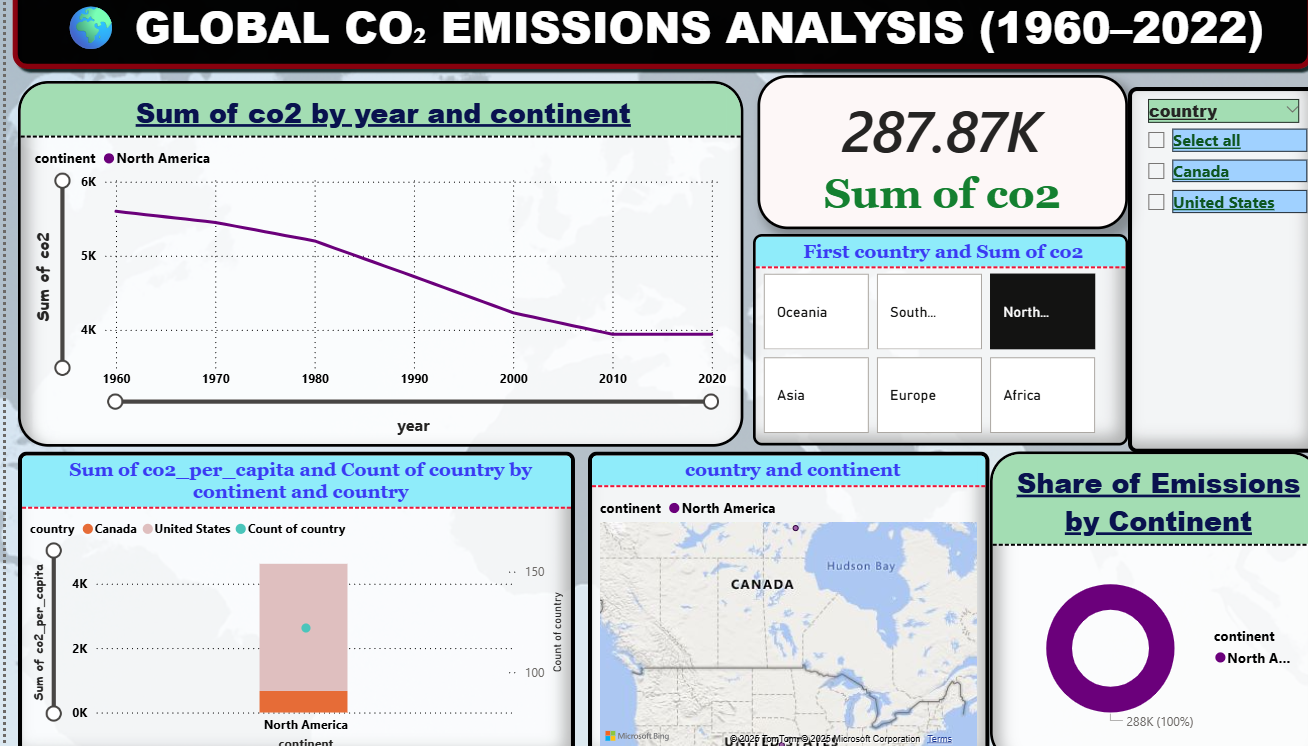

What the dashboard file says about the page in this screenshot:
{"tool":"powerbi","page":{"name":"Page 2","canvas":[1302,779],"ordinal":0},"visuals":[{"type":"card","title":"Global CO₂ Emissions","fields":{"Values":["Sum(co2_data_cleaned.co2)"]},"box":[743.9,98.6,366.6,152.5],"z":0},{"type":"shape","box":[0,0,1300,98.6],"z":1000},{"type":"slicer","fields":{"Values":["co2_data_cleaned.country"]},"box":[1110.5,109.4,189.4,362],"z":2000},{"type":"lineChart","fields":{"Category":["co2_data_cleaned.year"],"Y":["Sum(co2_data_cleaned.co2)"],"Series":["co2_data_cleaned.continent"]},"box":[12.3,103.2,717.7,362],"z":4000},{"type":"lineStackedColumnComboChart","fields":{"Category":["co2_data_cleaned.continent"],"Y":["Sum(co2_data_cleaned.co2_per_capita)"],"Series":["co2_data_cleaned.country"],"Y2":["CountNonNull(co2_data_cleaned.country)"]},"box":[12.3,471.3,551.4,308],"z":4001},{"type":"donutChart","title":"Share of Emissions by Continent","fields":{"Y":["Sum(co2_data_cleaned.co2)"],"Category":["co2_data_cleaned.continent"]},"box":[973.4,471.3,328.1,308],"z":4002},{"type":"map","fields":{"Category":["co2_data_cleaned.country"],"Series":["co2_data_cleaned.continent"]},"box":[576,471.3,397.4,308],"z":4003},{"type":"advancedSlicerVisual","box":[739.3,255.7,371.2,209.5],"z":4004}]}

Visuals, with their boxes in screenshot pixels (x1, y1, x2, y2):
"Global CO₂ Emissions" card: left=755, top=73, right=1127, bottom=228
shape: left=0, top=0, right=1307, bottom=73
slicer - co2_data_cleaned.country: left=1127, top=84, right=1307, bottom=451
lineChart - co2_data_cleaned.year x Sum(co2_data_cleaned.co2): left=12, top=78, right=741, bottom=445
lineStackedColumnComboChart - co2_data_cleaned.continent x Sum(co2_data_cleaned.co2_per_capita): left=12, top=451, right=572, bottom=745
"Share of Emissions by Continent" donutChart: left=988, top=451, right=1307, bottom=745
map - co2_data_cleaned.country x co2_data_cleaned.continent: left=585, top=451, right=988, bottom=745
advancedSlicerVisual: left=750, top=232, right=1127, bottom=445
